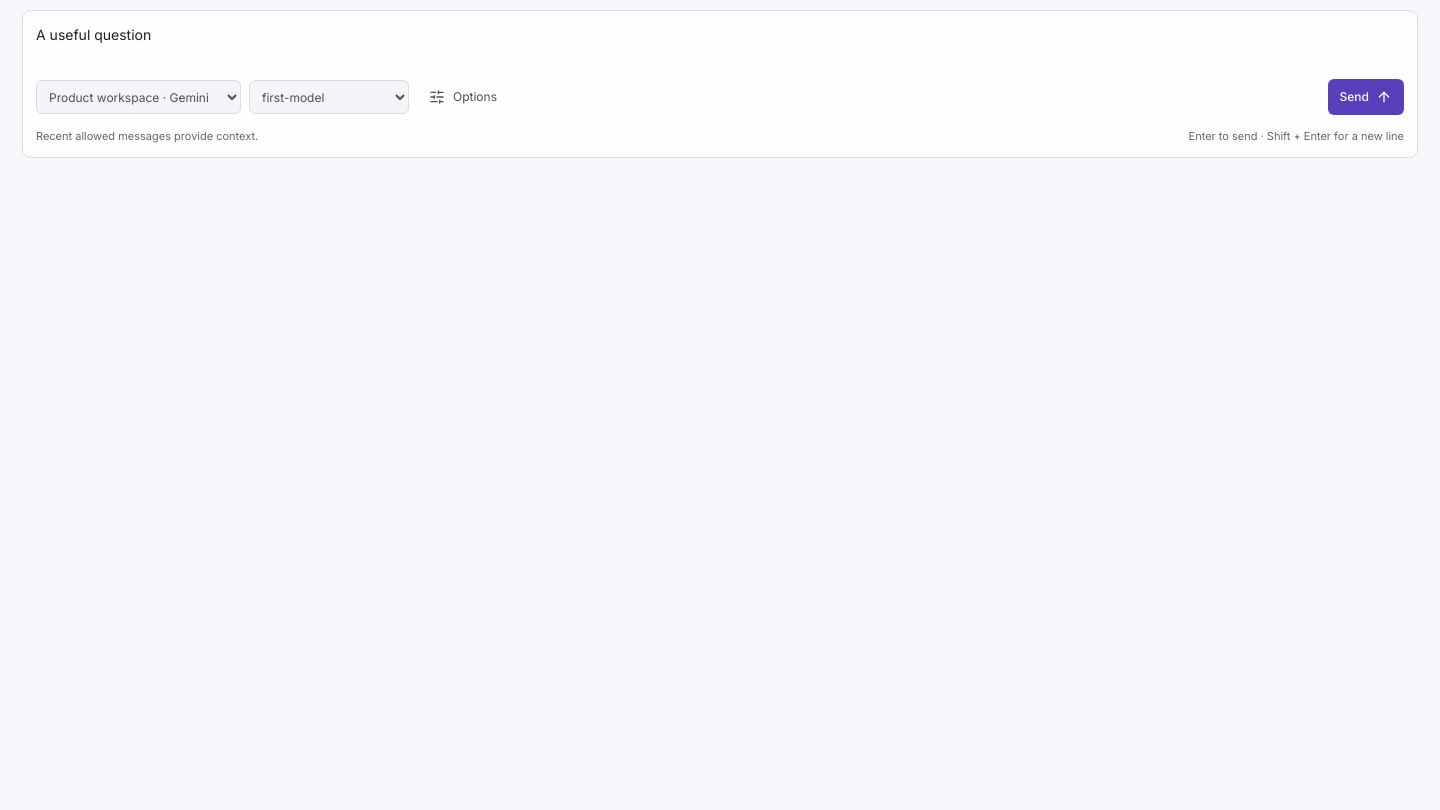
Test: opens hidden settings and focuses an invalid max_tokens value of 0
Expected: the number field labelled "Max tokens" is not shown
Click the button with aria-label "Send message".
click(1366, 97)  # box [1328,79,1404,115]
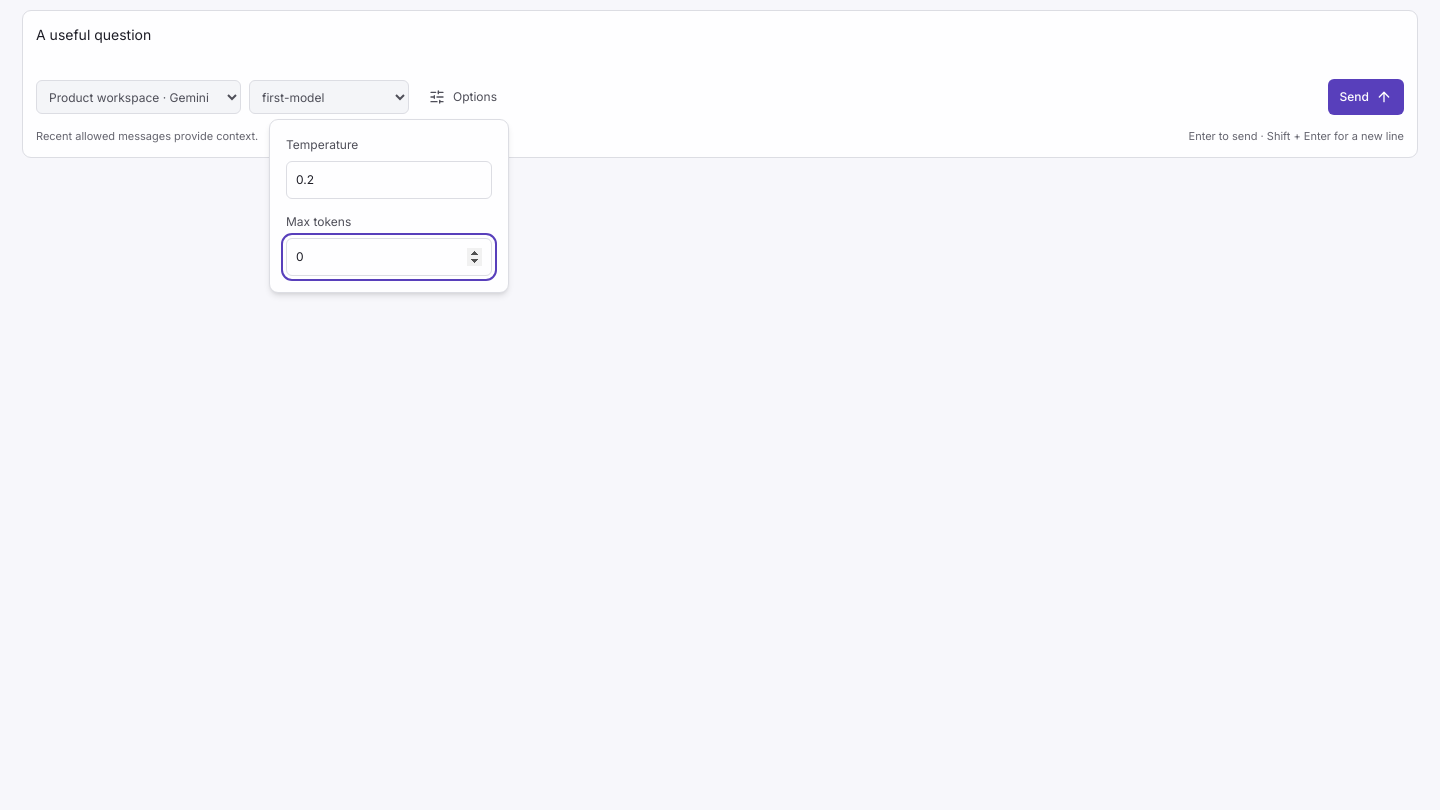
Expected: the number field labelled "Max tokens" holds "0", [286,238,492,276]
